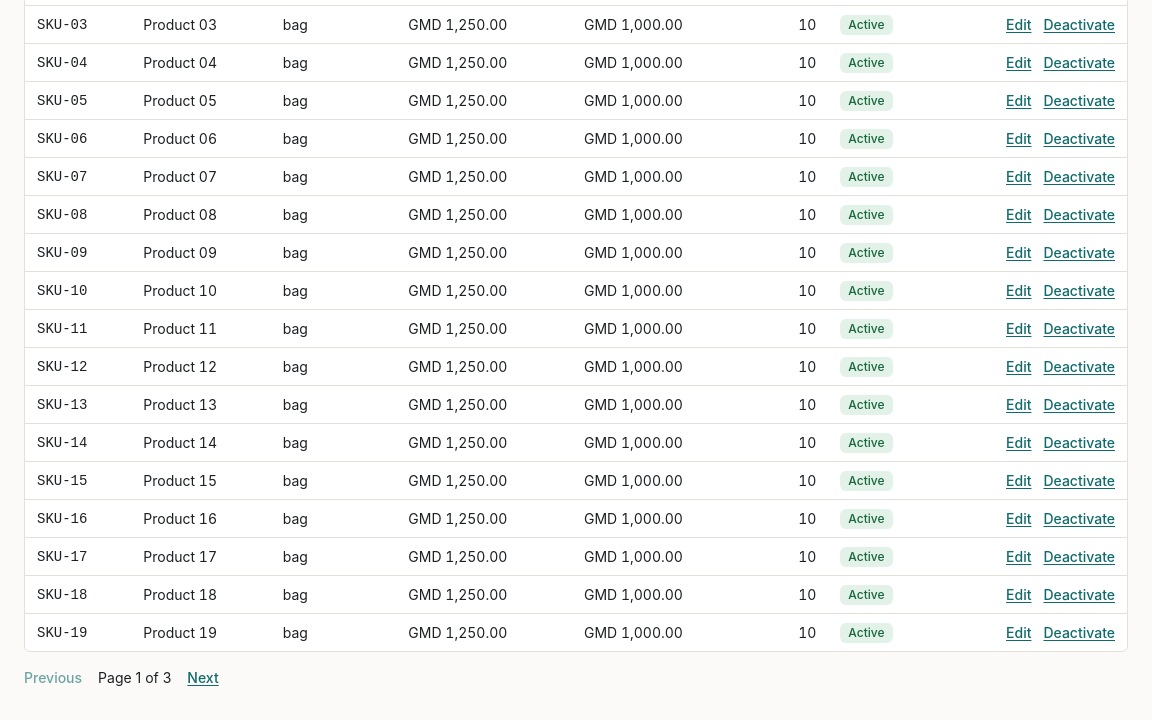
Test case: the product list › pages through a long list
(page scrolled)
Expected: the text "Page 1 of 3" is shown, top-left (98, 668), bottom-right (171, 688)
Click the button "Next" at {"x": 203, "y": 678}, box top-left (187, 668), bottom-right (219, 688)
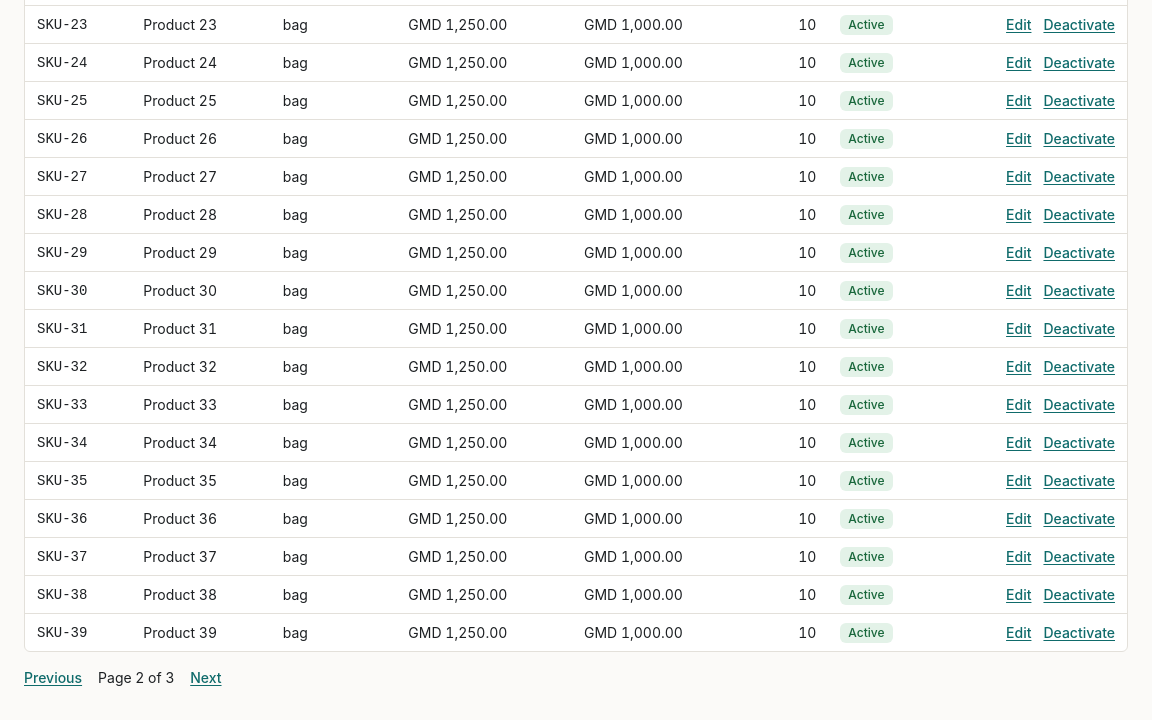
Click the button "Next" at {"x": 206, "y": 678}, box top-left (190, 668), bottom-right (222, 688)
(page scrolled)
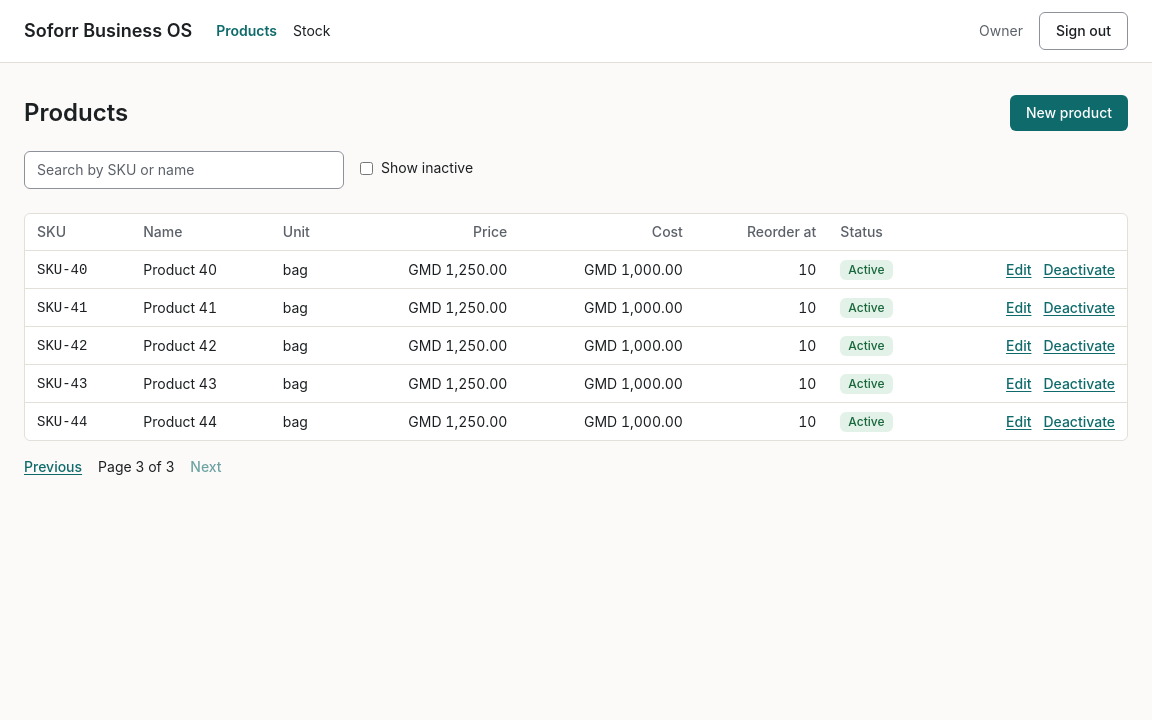
Expected: the text "Page 3 of 3" is shown, top-left (98, 457), bottom-right (174, 477)
Expected: the button "Next" is disabled, top-left (190, 457), bottom-right (222, 477)
